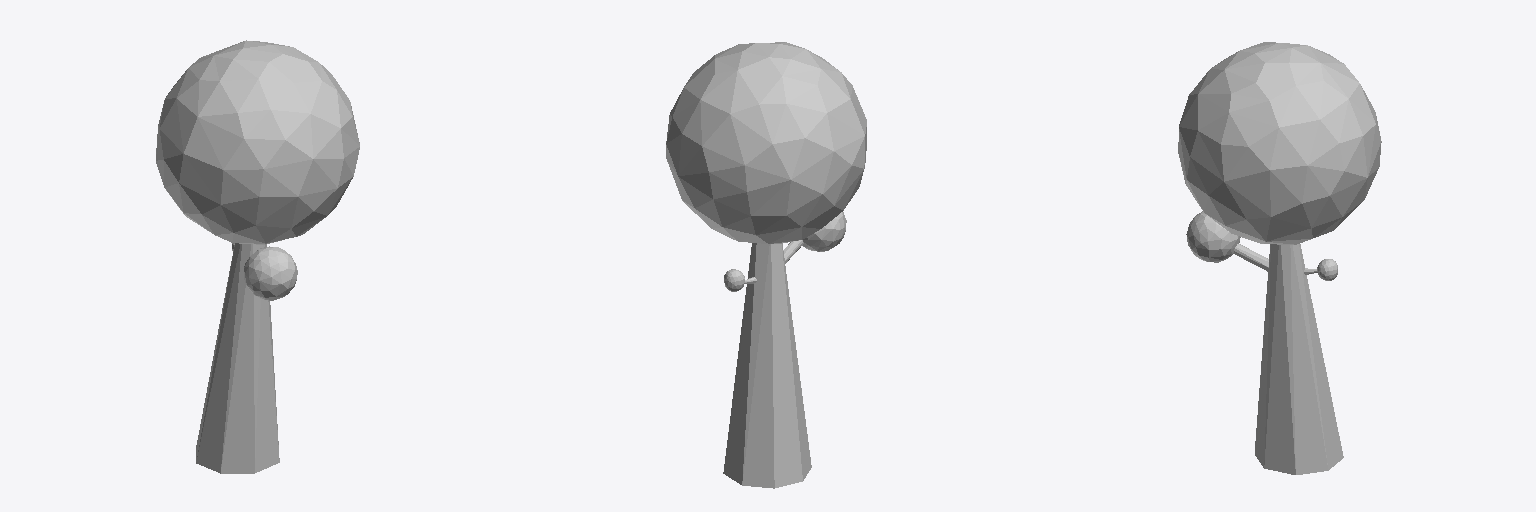
File: tree_2.obj
The picture shows the model from 3 angles: view 1: azimuth 30°, elevation 25°; view 2: azimuth 150°, elevation 25°; view 3: azimuth 270°, elevation 25°; orthographic projection.
Visible parts, largest first — view 1: Sphere, Cylinder, Sphere.001; view 2: Sphere, Cylinder, Sphere.001; view 3: Sphere, Cylinder, Sphere.001.
Boxes of the visible parts, <box> form: Sphere: <box>156,40,359,244</box>; Cylinder: <box>196,243,279,473</box>; Sphere.001: <box>244,246,297,300</box>; Sphere: <box>666,42,866,243</box>; Cylinder: <box>723,243,811,488</box>; Sphere.001: <box>802,212,846,251</box>; Sphere: <box>1178,42,1381,244</box>; Cylinder: <box>1255,244,1343,474</box>; Sphere.001: <box>1186,211,1240,262</box>.
Size of the model in its own units: 2 by 4.43 by 1.99.